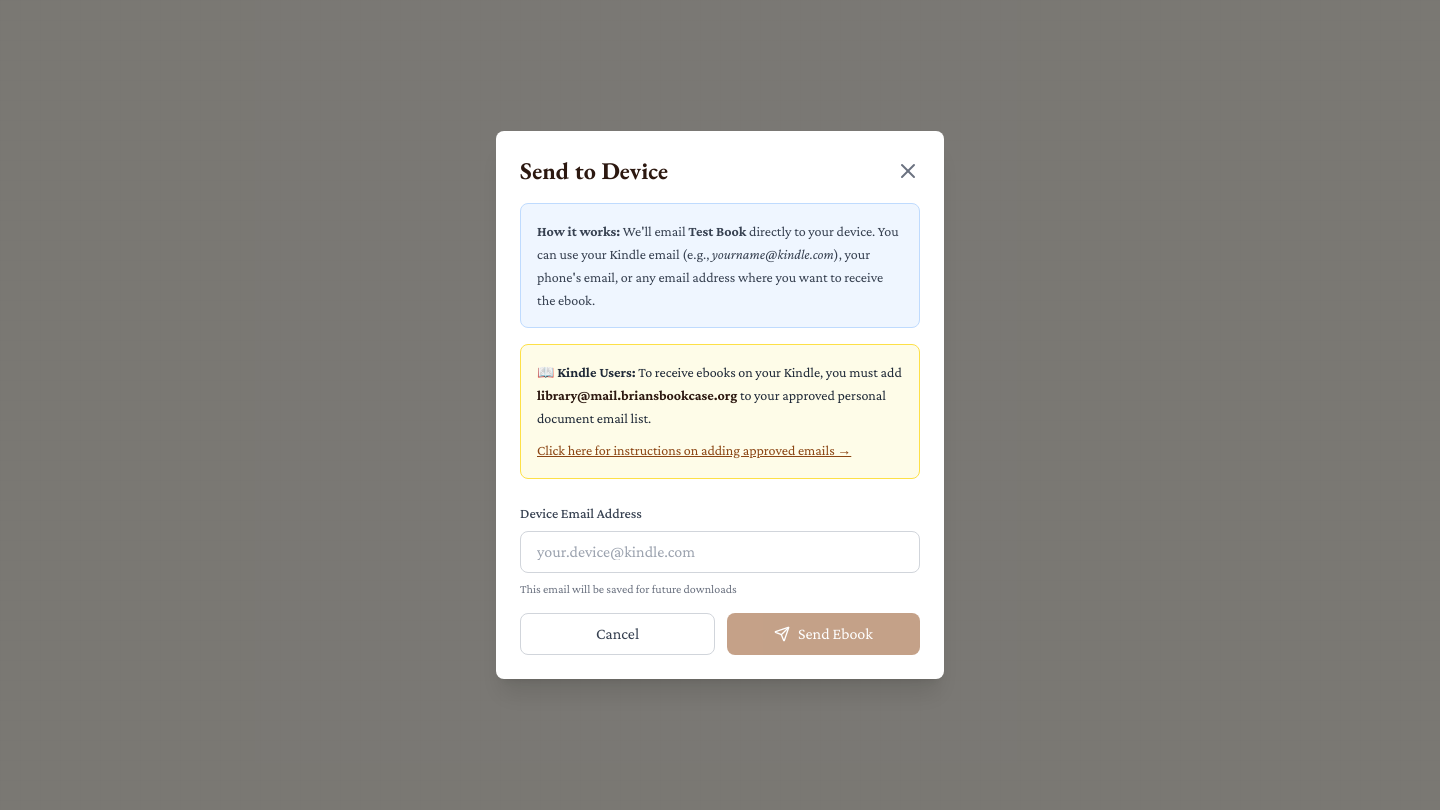
it: SendToDeviceModal › should show success message after successful send
Type "test@kindle.com" into the field with placeholder "your.device@kindle.com".
click(720, 552); type("test@kindle.com")  # box x1=520 y1=531 x2=920 y2=573
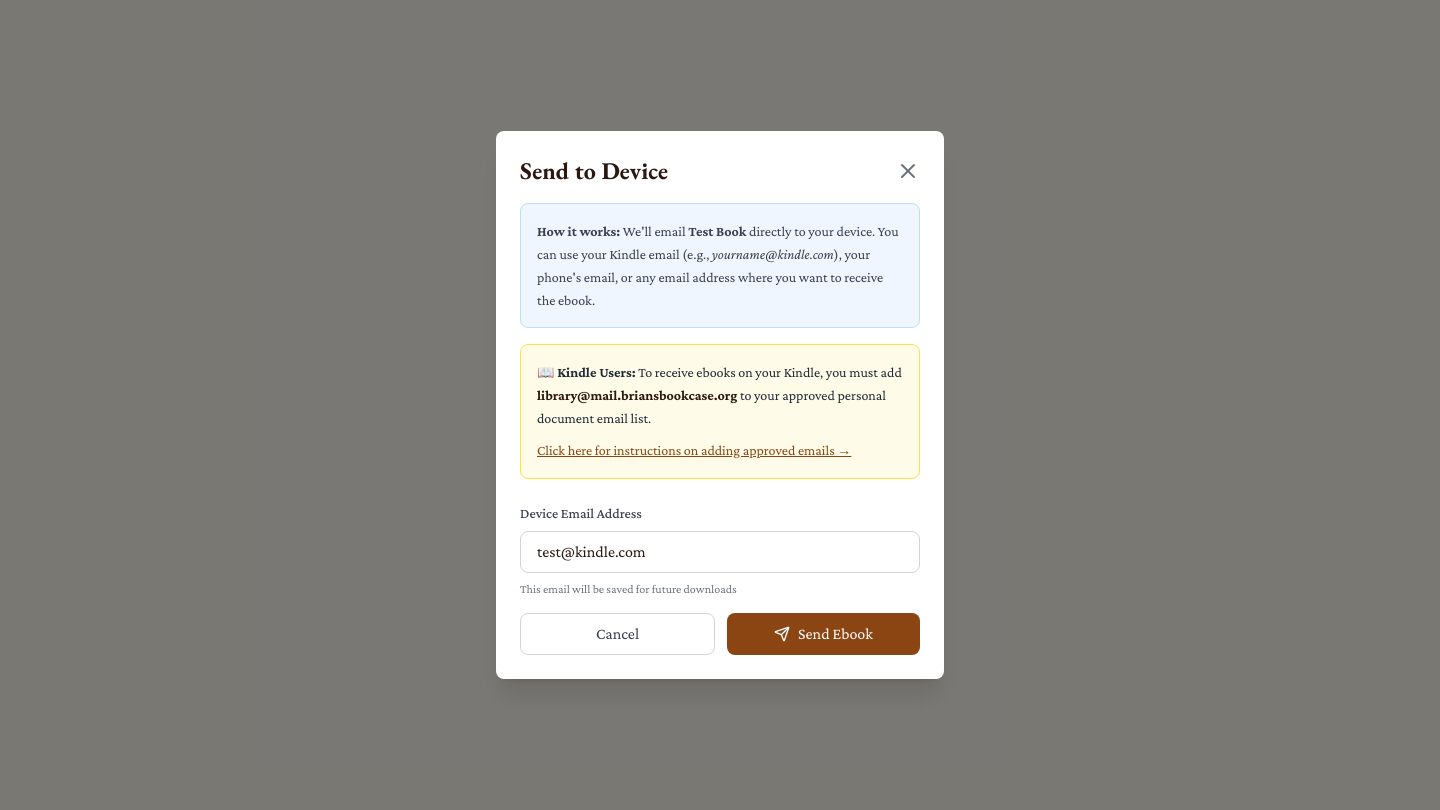
Click the button "Send Ebook".
click(824, 634)  # box x1=727 y1=613 x2=920 y2=655
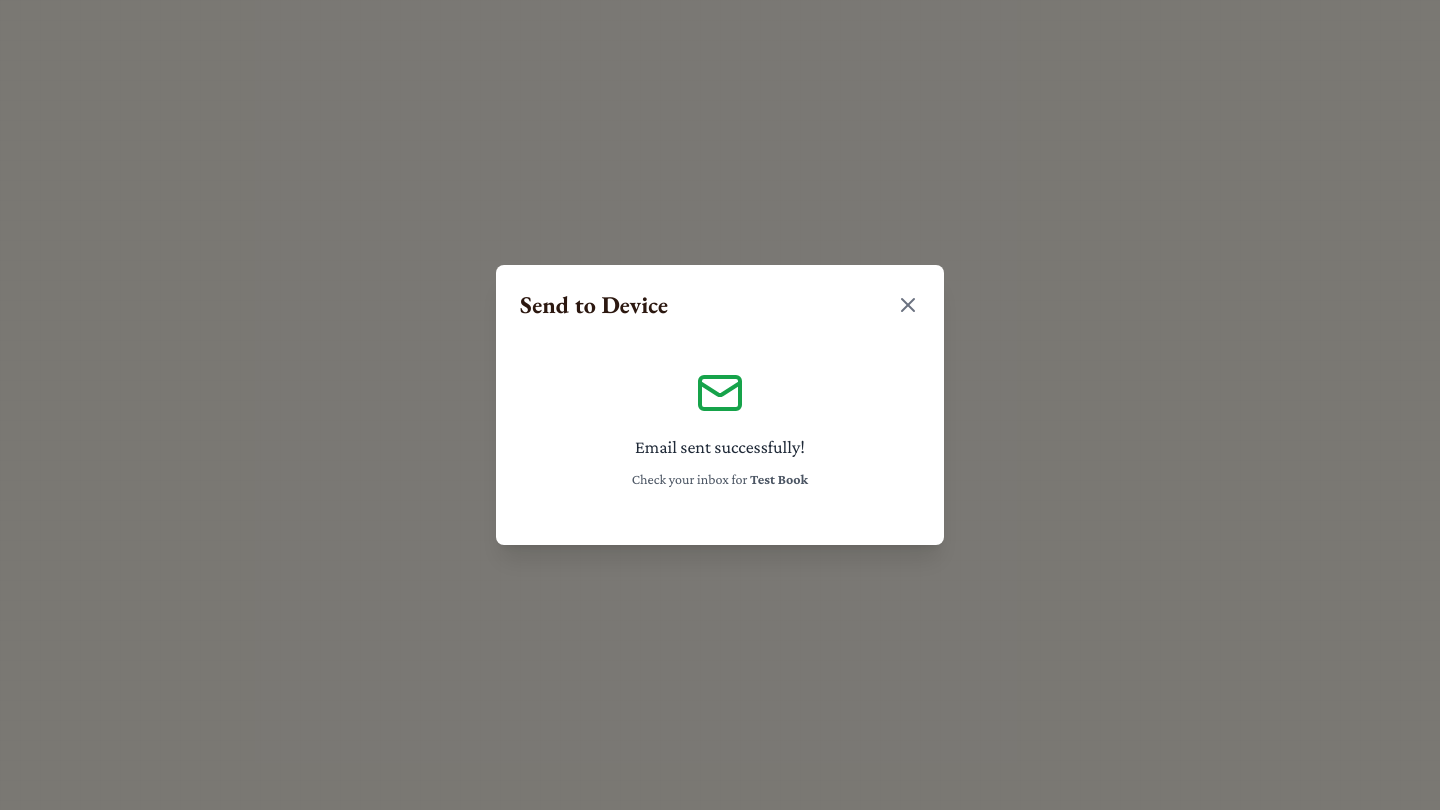
Check: the text "Email sent successfully!" is shown, box x1=635 y1=437 x2=805 y2=457
Check: the text "Check your inbox for Test Book" is shown, box x1=632 y1=471 x2=808 y2=487
